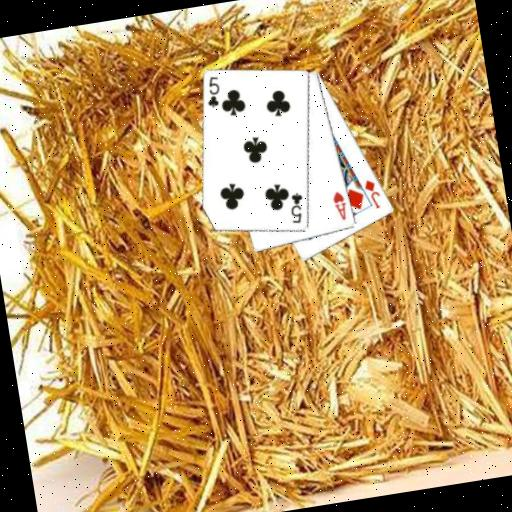5C: (200, 73, 224, 110), (285, 189, 308, 225)
AH: (328, 187, 350, 223)
JD: (360, 175, 383, 211)
